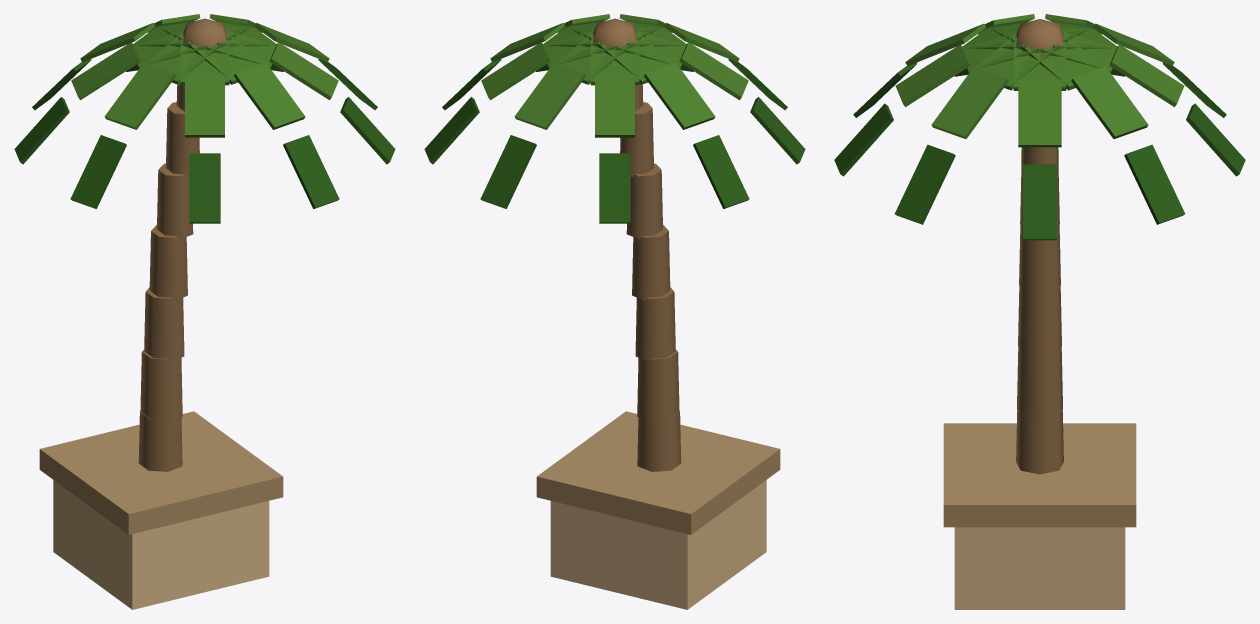
Rendered from dc_palm_planter.glb.
3 views of the same model, side by side, from view 1: azimuth 30°, elevation 25°; view 2: azimuth 150°, elevation 25°; view 3: azimuth 270°, elevation 25° (orthographic). The views are drawn at different scales.
Visible parts, largest first — view 1: dc_palm_planter; view 2: dc_palm_planter; view 3: dc_palm_planter.
Part boxes in pixels (x1,y1,x2,y2): dc_palm_planter: (14,14,395,609); dc_palm_planter: (424,14,805,609); dc_palm_planter: (834,14,1245,609).
Size of the model in its own units: 2.61 by 4.1 by 2.65.
